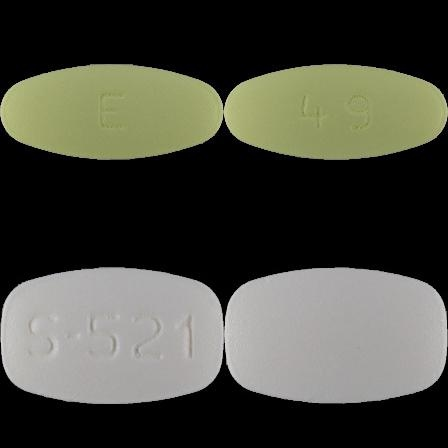16714-225: (0, 0, 224, 224)
